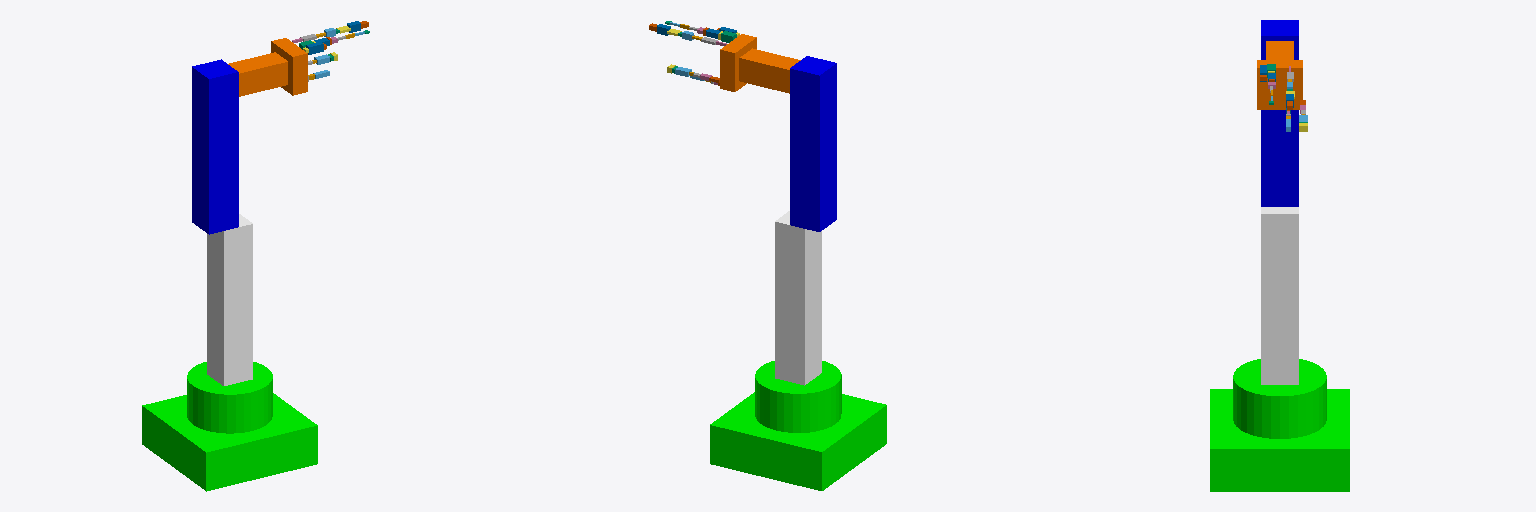
--- Facts derived from the render (not from the file) ---
3 views of the same robot in one strip: view 1: azimuth 30°, elevation 25°; view 2: azimuth 150°, elevation 25°; view 3: azimuth 270°, elevation 25° (orthographic).
Robot: robot — 38 links, 37 joints (34 revolute, 1 continuous, 2 fixed); root link base_link; default pose: every joint at zero.
Visible links, largest first — view 1: base_link, arm_link, support_link, wrist_link, palm_link; view 2: base_link, arm_link, support_link, wrist_link, palm_link; view 3: base_link, support_link, arm_link, palm_link, wrist_link.
Boxes of the visible links, box(x1,y1,x2,y2) form: base_link: box(142, 362, 317, 491); arm_link: box(192, 59, 238, 234); support_link: box(207, 214, 252, 385); wrist_link: box(228, 52, 287, 96); palm_link: box(271, 38, 307, 95); base_link: box(710, 361, 886, 490); arm_link: box(790, 56, 836, 231); support_link: box(775, 211, 821, 385); wrist_link: box(739, 48, 800, 93); palm_link: box(720, 34, 756, 91); base_link: box(1210, 359, 1349, 491); support_link: box(1261, 207, 1298, 384); arm_link: box(1261, 20, 1298, 206); palm_link: box(1257, 60, 1302, 109); wrist_link: box(1266, 41, 1293, 59).
Bounding box of the posed robot: 1.33 × 0.75 × 2.55 m (x, y, z).
Geometry: primitives only (box / cylinder / sphere), no mesh files.

robot.urdf — robot:
<?xml version='1.0' encoding='utf-8'?>
<robot name="robot">
  <link name="base_link">
    <visual>
      <origin xyz="0 0 0.125" rpy="0 0 0" />
      <geometry>
        <box size="0.75 0.75 0.25" />
      </geometry>
      <material name="green" />
    </visual>
    <visual>
      <origin xyz="0 0 0.375" rpy="0 0 0" />
      <geometry>
        <cylinder length="0.25" radius="0.25" />
      </geometry>
      <material name="green">
        <color rgba="0 1 0 1" />
      </material>
    </visual>
    <collision>
      <geometry>
        <box size="0.75 0.75 0.5" />
      </geometry>
    </collision>
    <inertial>
      <mass value="0.5" />
      <inertia ixx="0.034" ixy="0.0" ixz="0.0" iyy="0.034" iyz="0.0" izz="0.034" />
    </inertial>
  </link>
  <link name="support_link">
    <visual>
      <origin xyz="0 0 0.5" rpy="0 0 0" />
      <geometry>
        <box size="0.2 0.2 1" />
      </geometry>
      <material name="white">
        <color rgba="1 1 1 1" />
      </material>
    </visual>
    <collision>
      <geometry>
        <box size="0.2 0.2 1" />
      </geometry>
    </collision>
    <inertial>
      <mass value="0.1" />
      <inertia ixx="0.01" ixy="0.0" ixz="0.0" iyy="0.01" iyz="0.0" izz="0.01" />
    </inertial>
  </link>
  <joint name="support_joint" type="continuous">
    <origin xyz="0 0 0.5" rpy="0 0 0" />
    <parent link="base_link" />
    <child link="support_link" />
    <axis xyz="0 0 1" />
  </joint>
  <link name="arm_link">
    <visual>
      <origin xyz="0 0 0.5" rpy="0 0 0" />
      <geometry>
        <box size="0.2 0.2 1" />
      </geometry>
      <material name="blue">
        <color rgba="0 0 1 1" />
      </material>
    </visual>
    <collision>
      <geometry>
        <box size="0.2 0.2 1" />
      </geometry>
    </collision>
    <inertial>
      <mass value="0.1" />
      <inertia ixx="0.01" ixy="0.0" ixz="0.0" iyy="0.01" iyz="0.0" izz="0.01" />
    </inertial>
  </link>
  <joint name="arm_joint" type="revolute">
    <origin xyz="-0.1 0 1" rpy="0 0 0" />
    <parent link="support_link" />
    <child link="arm_link" />
    <axis xyz="0 1 0" />
    <limit lower="-3.14" upper="3.14" effort="1.0" velocity="1.0" />
  </joint>
  <link name="wrist_link">
    <visual>
      <origin xyz="0 0 0.25" rpy="0 0 0" />
      <geometry>
        <box size="0.15 0.15 0.5" />
      </geometry>
      <material name="orange">
        <color rgba="1 0.5 0 1" />
      </material>
    </visual>
    <collision>
      <geometry>
        <box size="0.15 0.15 0.5" />
      </geometry>
    </collision>
    <inertial>
      <mass value="0.1" />
      <inertia ixx="0.01" ixy="0.0" ixz="0.0" iyy="0.01" iyz="0.0" izz="0.01" />
    </inertial>
  </link>
  <joint name="wrist_joint" type="fixed">
    <origin xyz="0 0 0.9" rpy="0 1.571 0" />
    <parent link="arm_link" />
    <child link="wrist_link" />
  </joint>
  <link name="palm_link">
    <visual>
      <origin xyz="0 0 0.05" rpy="0 0 0" />
      <geometry>
        <box size="0.25 0.25 0.1" />
      </geometry>
      <material name="orange" />
    </visual>
    <collision>
      <geometry>
        <box size="0.25 0.25 0.1" />
      </geometry>
    </collision>
    <inertial>
      <mass value="0.1" />
      <inertia ixx="0.01" ixy="0.0" ixz="0.0" iyy="0.01" iyz="0.0" izz="0.01" />
    </inertial>
  </link>
  <joint name="palm_joint" type="fixed">
    <origin xyz="0 0 0.45" rpy="0 0 0" />
    <parent link="wrist_link" />
    <child link="palm_link" />
  </joint>
  <link name="finger_link_0_0">
    <visual>
      <origin xyz="0 0 0.031" rpy="0 0 0" />
      <geometry>
        <box size="0.017 0.032 0.062" />
      </geometry>
    </visual>
    <collision>
      <geometry>
        <box size="0.017 0.032 0.062" />
      </geometry>
    </collision>
    <inertial>
      <mass value="0.01" />
      <inertia ixx="0.0" iyy="0.0" izz="0.0" ixy="0" ixz="0" iyz="0" />
    </inertial>
  </link>
  <joint name="finger_joint_palm_link_to_finger_link_0_0" type="revolute">
    <origin xyz="0.074 0.125 0.1" rpy="0 0 0" />
    <parent link="palm_link" />
    <child link="finger_link_0_0" />
    <axis xyz="0.0 1.0 0.0" />
    <limit lower="-3.142" upper="3.142" effort="10" velocity="10" />
  </joint>
  <link name="finger_link_0_1">
    <visual>
      <origin xyz="0 0 0.032" rpy="0 0 0" />
      <geometry>
        <box size="0.024 0.032 0.064" />
      </geometry>
    </visual>
    <collision>
      <geometry>
        <box size="0.024 0.032 0.064" />
      </geometry>
    </collision>
    <inertial>
      <mass value="0.015" />
      <inertia ixx="0.0" iyy="0.0" izz="0.0" ixy="0" ixz="0" iyz="0" />
    </inertial>
  </link>
  <joint name="finger_joint_finger_link_0_0_to_finger_link_0_1" type="revolute">
    <origin xyz="0.0 0.0 0.062" rpy="0 0 0" />
    <parent link="finger_link_0_0" />
    <child link="finger_link_0_1" />
    <axis xyz="1.0 1.0 0.0" />
    <limit lower="-3.142" upper="3.142" effort="10" velocity="10" />
  </joint>
  <link name="finger_link_0_2">
    <visual>
      <origin xyz="0 0 0.025" rpy="0 0 0" />
      <geometry>
        <box size="0.014 0.026 0.05" />
      </geometry>
    </visual>
    <collision>
      <geometry>
        <box size="0.014 0.026 0.05" />
      </geometry>
    </collision>
    <inertial>
      <mass value="0.005" />
      <inertia ixx="0.0" iyy="0.0" izz="0.0" ixy="0" ixz="0" iyz="0" />
    </inertial>
  </link>
  <joint name="finger_joint_finger_link_0_1_to_finger_link_0_2" type="revolute">
    <origin xyz="0.0 0.0 0.064" rpy="0 0 0" />
    <parent link="finger_link_0_1" />
    <child link="finger_link_0_2" />
    <axis xyz="0.0 1.0 0.0" />
    <limit lower="-3.142" upper="3.142" effort="10" velocity="10" />
  </joint>
  <link name="finger_link_0_3">
    <visual>
      <origin xyz="0 0 0.0135" rpy="0 0 0" />
      <geometry>
        <box size="0.018 0.012 0.027" />
      </geometry>
    </visual>
    <collision>
      <geometry>
        <box size="0.018 0.012 0.027" />
      </geometry>
    </collision>
    <inertial>
      <mass value="0.002" />
      <inertia ixx="0.0" iyy="0.0" izz="0.0" ixy="0" ixz="0" iyz="0" />
    </inertial>
  </link>
  <joint name="finger_joint_finger_link_0_2_to_finger_link_0_3" type="revolute">
    <origin xyz="0.0 0.0 0.05" rpy="0 0 0" />
    <parent link="finger_link_0_2" />
    <child link="finger_link_0_3" />
    <axis xyz="1.0 1.0 0.0" />
    <limit lower="-3.142" upper="3.142" effort="10" velocity="10" />
  </joint>
  <link name="finger_link_0_4">
    <visual>
      <origin xyz="0 0 0.0415" rpy="0 0 0" />
      <geometry>
        <box size="0.032 0.044 0.083" />
      </geometry>
    </visual>
    <collision>
      <geometry>
        <box size="0.032 0.044 0.083" />
      </geometry>
    </collision>
    <inertial>
      <mass value="0.035" />
      <inertia ixx="0.0" iyy="0.0" izz="0.0" ixy="0" ixz="0" iyz="0" />
    </inertial>
  </link>
  <joint name="finger_joint_finger_link_0_3_to_finger_link_0_4" type="revolute">
    <origin xyz="0.0 0.0 0.027" rpy="0 0 0" />
    <parent link="finger_link_0_3" />
    <child link="finger_link_0_4" />
    <axis xyz="1.0 0.0 0.0" />
    <limit lower="-3.142" upper="3.142" effort="10" velocity="10" />
  </joint>
  <link name="finger_link_0_5">
    <visual>
      <origin xyz="0 0 0.012" rpy="0 0 0" />
      <geometry>
        <box size="0.025 0.047 0.024" />
      </geometry>
    </visual>
    <collision>
      <geometry>
        <box size="0.025 0.047 0.024" />
      </geometry>
    </collision>
    <inertial>
      <mass value="0.008" />
      <inertia ixx="0.0" iyy="0.0" izz="0.0" ixy="0" ixz="0" iyz="0" />
    </inertial>
  </link>
  <joint name="finger_joint_finger_link_0_4_to_finger_link_0_5" type="revolute">
    <origin xyz="0.0 0.0 0.083" rpy="0 0 0" />
    <parent link="finger_link_0_4" />
    <child link="finger_link_0_5" />
    <axis xyz="1.0 0.0 0.0" />
    <limit lower="-3.142" upper="3.142" effort="10" velocity="10" />
  </joint>
  <link name="finger_link_0_6">
    <visual>
      <origin xyz="0 0 0.0145" rpy="0 0 0" />
      <geometry>
        <box size="0.035 0.044 0.029" />
      </geometry>
    </visual>
    <collision>
      <geometry>
        <box size="0.035 0.044 0.029" />
      </geometry>
    </collision>
    <inertial>
      <mass value="0.013" />
      <inertia ixx="0.0" iyy="0.0" izz="0.0" ixy="0" ixz="0" iyz="0" />
    </inertial>
  </link>
  <joint name="finger_joint_finger_link_0_5_to_finger_link_0_6" type="revolute">
    <origin xyz="0.0 0.0 0.024" rpy="0 0 0" />
    <parent link="finger_link_0_5" />
    <child link="finger_link_0_6" />
    <axis xyz="1.0 1.0 0.0" />
    <limit lower="-3.142" upper="3.142" effort="10" velocity="10" />
  </joint>
  <link name="finger_link_1_0">
    <visual>
      <origin xyz="0 0 0.0205" rpy="0 0 0" />
      <geometry>
        <box size="0.037 0.025 0.041" />
      </geometry>
    </visual>
    <collision>
      <geometry>
        <box size="0.037 0.025 0.041" />
      </geometry>
    </collision>
    <inertial>
      <mass value="0.011" />
      <inertia ixx="0.0" iyy="0.0" izz="0.0" ixy="0" ixz="0" iyz="0" />
    </inertial>
  </link>
  <joint name="finger_joint_palm_link_to_finger_link_1_0" type="revolute">
    <origin xyz="0.125 0.045 0.1" rpy="0 0 0" />
    <parent link="palm_link" />
    <child link="finger_link_1_0" />
    <axis xyz="0.0 1.0 0.0" />
    <limit lower="-3.142" upper="3.142" effort="10" velocity="10" />
  </joint>
  <link name="finger_link_1_1">
    <visual>
      <origin xyz="0 0 0.0065" rpy="0 0 0" />
      <geometry>
        <box size="0.04 0.019 0.013" />
      </geometry>
    </visual>
    <collision>
      <geometry>
        <box size="0.04 0.019 0.013" />
      </geometry>
    </collision>
    <inertial>
      <mass value="0.003" />
      <inertia ixx="0.0" iyy="0.0" izz="0.0" ixy="0" ixz="0" iyz="0" />
    </inertial>
  </link>
  <joint name="finger_joint_finger_link_1_0_to_finger_link_1_1" type="revolute">
    <origin xyz="0.0 0.0 0.041" rpy="0 0 0" />
    <parent link="finger_link_1_0" />
    <child link="finger_link_1_1" />
    <axis xyz="0.0 1.0 0.0" />
    <limit lower="-3.142" upper="3.142" effort="10" velocity="10" />
  </joint>
  <link name="finger_link_1_2">
    <visual>
      <origin xyz="0 0 0.015" rpy="0 0 0" />
      <geometry>
        <box size="0.04 0.019 0.03" />
      </geometry>
    </visual>
    <collision>
      <geometry>
        <box size="0.04 0.019 0.03" />
      </geometry>
    </collision>
    <inertial>
      <mass value="0.007" />
      <inertia ixx="0.0" iyy="0.0" izz="0.0" ixy="0" ixz="0" iyz="0" />
    </inertial>
  </link>
  <joint name="finger_joint_finger_link_1_1_to_finger_link_1_2" type="revolute">
    <origin xyz="0.0 0.0 0.013" rpy="0 0 0" />
    <parent link="finger_link_1_1" />
    <child link="finger_link_1_2" />
    <axis xyz="1.0 1.0 0.0" />
    <limit lower="-3.142" upper="3.142" effort="10" velocity="10" />
  </joint>
  <link name="finger_link_1_3">
    <visual>
      <origin xyz="0 0 0.007" rpy="0 0 0" />
      <geometry>
        <box size="0.034 0.03 0.014" />
      </geometry>
    </visual>
    <collision>
      <geometry>
        <box size="0.034 0.03 0.014" />
      </geometry>
    </collision>
    <inertial>
      <mass value="0.004" />
      <inertia ixx="0.0" iyy="0.0" izz="0.0" ixy="0" ixz="0" iyz="0" />
    </inertial>
  </link>
  <joint name="finger_joint_finger_link_1_2_to_finger_link_1_3" type="revolute">
    <origin xyz="0.0 0.0 0.03" rpy="0 0 0" />
    <parent link="finger_link_1_2" />
    <child link="finger_link_1_3" />
    <axis xyz="1.0 0.0 0.0" />
    <limit lower="-3.142" upper="3.142" effort="10" velocity="10" />
  </joint>
  <link name="finger_link_1_4">
    <visual>
      <origin xyz="0 0 0.023" rpy="0 0 0" />
      <geometry>
        <box size="0.026 0.023 0.046" />
      </geometry>
    </visual>
    <collision>
      <geometry>
        <box size="0.026 0.023 0.046" />
      </geometry>
    </collision>
    <inertial>
      <mass value="0.008" />
      <inertia ixx="0.0" iyy="0.0" izz="0.0" ixy="0" ixz="0" iyz="0" />
    </inertial>
  </link>
  <joint name="finger_joint_finger_link_1_3_to_finger_link_1_4" type="revolute">
    <origin xyz="0.0 0.0 0.014" rpy="0 0 0" />
    <parent link="finger_link_1_3" />
    <child link="finger_link_1_4" />
    <axis xyz="1.0 1.0 0.0" />
    <limit lower="-3.142" upper="3.142" effort="10" velocity="10" />
  </joint>
  <link name="finger_link_1_5">
    <visual>
      <origin xyz="0 0 0.0475" rpy="0 0 0" />
      <geometry>
        <box size="0.028 0.029 0.095" />
      </geometry>
    </visual>
    <collision>
      <geometry>
        <box size="0.028 0.029 0.095" />
      </geometry>
    </collision>
    <inertial>
      <mass value="0.023" />
      <inertia ixx="0.0" iyy="0.0" izz="0.0" ixy="0" ixz="0" iyz="0" />
    </inertial>
  </link>
  <joint name="finger_joint_finger_link_1_4_to_finger_link_1_5" type="revolute">
    <origin xyz="0.0 0.0 0.046" rpy="0 0 0" />
    <parent link="finger_link_1_4" />
    <child link="finger_link_1_5" />
    <axis xyz="1.0 1.0 0.0" />
    <limit lower="-3.142" upper="3.142" effort="10" velocity="10" />
  </joint>
  <link name="finger_link_2_0">
    <visual>
      <origin xyz="0 0 0.0395" rpy="0 0 0" />
      <geometry>
        <box size="0.048 0.046 0.079" />
      </geometry>
    </visual>
    <collision>
      <geometry>
        <box size="0.048 0.046 0.079" />
      </geometry>
    </collision>
    <inertial>
      <mass value="0.052" />
      <inertia ixx="0.0" iyy="0.0" izz="0.0" ixy="0" ixz="0" iyz="0" />
    </inertial>
  </link>
  <joint name="finger_joint_palm_link_to_finger_link_2_0" type="revolute">
    <origin xyz="-0.125 -0.044 0.1" rpy="0 0 0" />
    <parent link="palm_link" />
    <child link="finger_link_2_0" />
    <axis xyz="1.0 1.0 0.0" />
    <limit lower="-3.142" upper="3.142" effort="10" velocity="10" />
  </joint>
  <link name="finger_link_2_1">
    <visual>
      <origin xyz="0 0 0.0095" rpy="0 0 0" />
      <geometry>
        <box size="0.037 0.04 0.019" />
      </geometry>
    </visual>
    <collision>
      <geometry>
        <box size="0.037 0.04 0.019" />
      </geometry>
    </collision>
    <inertial>
      <mass value="0.008" />
      <inertia ixx="0.0" iyy="0.0" izz="0.0" ixy="0" ixz="0" iyz="0" />
    </inertial>
  </link>
  <joint name="finger_joint_finger_link_2_0_to_finger_link_2_1" type="revolute">
    <origin xyz="0.0 0.0 0.079" rpy="0 0 0" />
    <parent link="finger_link_2_0" />
    <child link="finger_link_2_1" />
    <axis xyz="0.0 1.0 0.0" />
    <limit lower="-3.142" upper="3.142" effort="10" velocity="10" />
  </joint>
  <link name="finger_link_2_2">
    <visual>
      <origin xyz="0 0 0.042" rpy="0 0 0" />
      <geometry>
        <box size="0.033 0.044 0.084" />
      </geometry>
    </visual>
    <collision>
      <geometry>
        <box size="0.033 0.044 0.084" />
      </geometry>
    </collision>
    <inertial>
      <mass value="0.037" />
      <inertia ixx="0.0" iyy="0.0" izz="0.0" ixy="0" ixz="0" iyz="0" />
    </inertial>
  </link>
  <joint name="finger_joint_finger_link_2_1_to_finger_link_2_2" type="revolute">
    <origin xyz="0.0 0.0 0.019" rpy="0 0 0" />
    <parent link="finger_link_2_1" />
    <child link="finger_link_2_2" />
    <axis xyz="1.0 0.0 0.0" />
    <limit lower="-3.142" upper="3.142" effort="10" velocity="10" />
  </joint>
  <link name="finger_link_2_3">
    <visual>
      <origin xyz="0 0 0.0095" rpy="0 0 0" />
      <geometry>
        <box size="0.04 0.034 0.019" />
      </geometry>
    </visual>
    <collision>
      <geometry>
        <box size="0.04 0.034 0.019" />
      </geometry>
    </collision>
    <inertial>
      <mass value="0.008" />
      <inertia ixx="0.0" iyy="0.0" izz="0.0" ixy="0" ixz="0" iyz="0" />
    </inertial>
  </link>
  <joint name="finger_joint_finger_link_2_2_to_finger_link_2_3" type="revolute">
    <origin xyz="0.0 0.0 0.084" rpy="0 0 0" />
    <parent link="finger_link_2_2" />
    <child link="finger_link_2_3" />
    <axis xyz="0.0 1.0 0.0" />
    <limit lower="-3.142" upper="3.142" effort="10" velocity="10" />
  </joint>
  <link name="finger_link_2_4">
    <visual>
      <origin xyz="0 0 0.02" rpy="0 0 0" />
      <geometry>
        <box size="0.022 0.041 0.04" />
      </geometry>
    </visual>
    <collision>
      <geometry>
        <box size="0.022 0.041 0.04" />
      </geometry>
    </collision>
    <inertial>
      <mass value="0.011" />
      <inertia ixx="0.0" iyy="0.0" izz="0.0" ixy="0" ixz="0" iyz="0" />
    </inertial>
  </link>
  <joint name="finger_joint_finger_link_2_3_to_finger_link_2_4" type="revolute">
    <origin xyz="0.0 0.0 0.019" rpy="0 0 0" />
    <parent link="finger_link_2_3" />
    <child link="finger_link_2_4" />
    <axis xyz="1.0 0.0 0.0" />
    <limit lower="-3.142" upper="3.142" effort="10" velocity="10" />
  </joint>
  <link name="finger_link_2_5">
    <visual>
      <origin xyz="0 0 0.0305" rpy="0 0 0" />
      <geometry>
        <box size="0.012 0.016 0.061" />
      </geometry>
    </visual>
    <collision>
      <geometry>
        <box size="0.012 0.016 0.061" />
      </geometry>
    </collision>
    <inertial>
      <mass value="0.004" />
      <inertia ixx="0.0" iyy="0.0" izz="0.0" ixy="0" ixz="0" iyz="0" />
    </inertial>
  </link>
  <joint name="finger_joint_finger_link_2_4_to_finger_link_2_5" type="revolute">
    <origin xyz="0.0 0.0 0.04" rpy="0 0 0" />
    <parent link="finger_link_2_4" />
    <child link="finger_link_2_5" />
    <axis xyz="0.0 1.0 0.0" />
    <limit lower="-3.142" upper="3.142" effort="10" velocity="10" />
  </joint>
  <link name="finger_link_2_6">
    <visual>
      <origin xyz="0 0 0.031" rpy="0 0 0" />
      <geometry>
        <box size="0.023 0.012 0.062" />
      </geometry>
    </visual>
    <collision>
      <geometry>
        <box size="0.023 0.012 0.062" />
      </geometry>
    </collision>
    <inertial>
      <mass value="0.005" />
      <inertia ixx="0.0" iyy="0.0" izz="0.0" ixy="0" ixz="0" iyz="0" />
    </inertial>
  </link>
  <joint name="finger_joint_finger_link_2_5_to_finger_link_2_6" type="revolute">
    <origin xyz="0.0 0.0 0.061" rpy="0 0 0" />
    <parent link="finger_link_2_5" />
    <child link="finger_link_2_6" />
    <axis xyz="1.0 1.0 0.0" />
    <limit lower="-3.142" upper="3.142" effort="10" velocity="10" />
  </joint>
  <link name="finger_link_2_7">
    <visual>
      <origin xyz="0 0 0.0325" rpy="0 0 0" />
      <geometry>
        <box size="0.012 0.012 0.065" />
      </geometry>
    </visual>
    <collision>
      <geometry>
        <box size="0.012 0.012 0.065" />
      </geometry>
    </collision>
    <inertial>
      <mass value="0.003" />
      <inertia ixx="0.0" iyy="0.0" izz="0.0" ixy="0" ixz="0" iyz="0" />
    </inertial>
  </link>
  <joint name="finger_joint_finger_link_2_6_to_finger_link_2_7" type="revolute">
    <origin xyz="0.0 0.0 0.062" rpy="0 0 0" />
    <parent link="finger_link_2_6" />
    <child link="finger_link_2_7" />
    <axis xyz="0.0 1.0 0.0" />
    <limit lower="-3.142" upper="3.142" effort="10" velocity="10" />
  </joint>
  <link name="finger_link_2_8">
    <visual>
      <origin xyz="0 0 0.0145" rpy="0 0 0" />
      <geometry>
        <box size="0.01 0.029 0.029" />
      </geometry>
    </visual>
    <collision>
      <geometry>
        <box size="0.01 0.029 0.029" />
      </geometry>
    </collision>
    <inertial>
      <mass value="0.003" />
      <inertia ixx="0.0" iyy="0.0" izz="0.0" ixy="0" ixz="0" iyz="0" />
    </inertial>
  </link>
  <joint name="finger_joint_finger_link_2_7_to_finger_link_2_8" type="revolute">
    <origin xyz="0.0 0.0 0.065" rpy="0 0 0" />
    <parent link="finger_link_2_7" />
    <child link="finger_link_2_8" />
    <axis xyz="1.0 1.0 0.0" />
    <limit lower="-3.142" upper="3.142" effort="10" velocity="10" />
  </joint>
  <link name="finger_link_3_0">
    <visual>
      <origin xyz="0 0 0.011" rpy="0 0 0" />
      <geometry>
        <box size="0.023 0.04 0.022" />
      </geometry>
    </visual>
    <collision>
      <geometry>
        <box size="0.023 0.04 0.022" />
      </geometry>
    </collision>
    <inertial>
      <mass value="0.006" />
      <inertia ixx="0.0" iyy="0.0" izz="0.0" ixy="0" ixz="0" iyz="0" />
    </inertial>
  </link>
  <joint name="finger_joint_palm_link_to_finger_link_3_0" type="revolute">
    <origin xyz="-0.125 -0.088 0.1" rpy="0 0 0" />
    <parent link="palm_link" />
    <child link="finger_link_3_0" />
    <axis xyz="1.0 1.0 0.0" />
    <limit lower="-3.142" upper="3.142" effort="10" velocity="10" />
  </joint>
  <link name="finger_link_3_1">
    <visual>
      <origin xyz="0 0 0.049" rpy="0 0 0" />
      <geometry>
        <box size="0.05 0.036 0.098" />
      </geometry>
    </visual>
    <collision>
      <geometry>
        <box size="0.05 0.036 0.098" />
      </geometry>
    </collision>
    <inertial>
      <mass value="0.053" />
      <inertia ixx="0.0" iyy="0.0" izz="0.0" ixy="0" ixz="0" iyz="0" />
    </inertial>
  </link>
  <joint name="finger_joint_finger_link_3_0_to_finger_link_3_1" type="revolute">
    <origin xyz="0.0 0.0 0.022" rpy="0 0 0" />
    <parent link="finger_link_3_0" />
    <child link="finger_link_3_1" />
    <axis xyz="0.0 1.0 0.0" />
    <limit lower="-3.142" upper="3.142" effort="10" velocity="10" />
  </joint>
  <link name="finger_link_3_2">
    <visual>
      <origin xyz="0 0 0.0095" rpy="0 0 0" />
      <geometry>
        <box size="0.026 0.04 0.019" />
      </geometry>
    </visual>
    <collision>
      <geometry>
        <box size="0.026 0.04 0.019" />
      </geometry>
    </collision>
    <inertial>
      <mass value="0.006" />
      <inertia ixx="0.0" iyy="0.0" izz="0.0" ixy="0" ixz="0" iyz="0" />
    </inertial>
  </link>
  <joint name="finger_joint_finger_link_3_1_to_finger_link_3_2" type="revolute">
    <origin xyz="0.0 0.0 0.098" rpy="0 0 0" />
    <parent link="finger_link_3_1" />
    <child link="finger_link_3_2" />
    <axis xyz="0.0 1.0 0.0" />
    <limit lower="-3.142" upper="3.142" effort="10" velocity="10" />
  </joint>
  <link name="finger_link_4_0">
    <visual>
      <origin xyz="0 0 0.033" rpy="0 0 0" />
      <geometry>
        <box size="0.017 0.014 0.066" />
      </geometry>
    </visual>
    <collision>
      <geometry>
        <box size="0.017 0.014 0.066" />
      </geometry>
    </collision>
    <inertial>
      <mass value="0.005" />
      <inertia ixx="0.0" iyy="0.0" izz="0.0" ixy="0" ixz="0" iyz="0" />
    </inertial>
  </link>
  <joint name="finger_joint_palm_link_to_finger_link_4_0" type="revolute">
    <origin xyz="-0.125 0.054 0.1" rpy="0 0 0" />
    <parent link="palm_link" />
    <child link="finger_link_4_0" />
    <axis xyz="0.0 1.0 0.0" />
    <limit lower="-3.142" upper="3.142" effort="10" velocity="10" />
  </joint>
  <link name="finger_link_4_1">
    <visual>
      <origin xyz="0 0 0.0455" rpy="0 0 0" />
      <geometry>
        <box size="0.017 0.038 0.091" />
      </geometry>
    </visual>
    <collision>
      <geometry>
        <box size="0.017 0.038 0.091" />
      </geometry>
    </collision>
    <inertial>
      <mass value="0.018" />
      <inertia ixx="0.0" iyy="0.0" izz="0.0" ixy="0" ixz="0" iyz="0" />
    </inertial>
  </link>
  <joint name="finger_joint_finger_link_4_0_to_finger_link_4_1" type="revolute">
    <origin xyz="0.0 0.0 0.066" rpy="0 0 0" />
    <parent link="finger_link_4_0" />
    <child link="finger_link_4_1" />
    <axis xyz="0.0 1.0 0.0" />
    <limit lower="-3.142" upper="3.142" effort="10" velocity="10" />
  </joint>
  <link name="finger_link_4_2">
    <visual>
      <origin xyz="0 0 0.033" rpy="0 0 0" />
      <geometry>
        <box size="0.012 0.022 0.066" />
      </geometry>
    </visual>
    <collision>
      <geometry>
        <box size="0.012 0.022 0.066" />
      </geometry>
    </collision>
    <inertial>
      <mass value="0.005" />
      <inertia ixx="0.0" iyy="0.0" izz="0.0" ixy="0" ixz="0" iyz="0" />
    </inertial>
  </link>
  <joint name="finger_joint_finger_link_4_1_to_finger_link_4_2" type="revolute">
    <origin xyz="0.0 0.0 0.091" rpy="0 0 0" />
    <parent link="finger_link_4_1" />
    <child link="finger_link_4_2" />
    <axis xyz="1.0 0.0 0.0" />
    <limit lower="-3.142" upper="3.142" effort="10" velocity="10" />
  </joint>
  <link name="finger_link_4_3">
    <visual>
      <origin xyz="0 0 0.0305" rpy="0 0 0" />
      <geometry>
        <box size="0.041 0.032 0.061" />
      </geometry>
    </visual>
    <collision>
      <geometry>
        <box size="0.041 0.032 0.061" />
      </geometry>
    </collision>
    <inertial>
      <mass value="0.024" />
      <inertia ixx="0.0" iyy="0.0" izz="0.0" ixy="0" ixz="0" iyz="0" />
    </inertial>
  </link>
  <joint name="finger_joint_finger_link_4_2_to_finger_link_4_3" type="revolute">
    <origin xyz="0.0 0.0 0.066" rpy="0 0 0" />
    <parent link="finger_link_4_2" />
    <child link="finger_link_4_3" />
    <axis xyz="1.0 0.0 0.0" />
    <limit lower="-3.142" upper="3.142" effort="10" velocity="10" />
  </joint>
  <link name="finger_link_4_4">
    <visual>
      <origin xyz="0 0 0.013" rpy="0 0 0" />
      <geometry>
        <box size="0.017 0.032 0.026" />
      </geometry>
    </visual>
    <collision>
      <geometry>
        <box size="0.017 0.032 0.026" />
      </geometry>
    </collision>
    <inertial>
      <mass value="0.004" />
      <inertia ixx="0.0" iyy="0.0" izz="0.0" ixy="0" ixz="0" iyz="0" />
    </inertial>
  </link>
  <joint name="finger_joint_finger_link_4_3_to_finger_link_4_4" type="revolute">
    <origin xyz="0.0 0.0 0.061" rpy="0 0 0" />
    <parent link="finger_link_4_3" />
    <child link="finger_link_4_4" />
    <axis xyz="1.0 1.0 0.0" />
    <limit lower="-3.142" upper="3.142" effort="10" velocity="10" />
  </joint>
  <link name="finger_link_4_5">
    <visual>
      <origin xyz="0 0 0.035" rpy="0 0 0" />
      <geometry>
        <box size="0.015 0.049 0.07" />
      </geometry>
    </visual>
    <collision>
      <geometry>
        <box size="0.015 0.049 0.07" />
      </geometry>
    </collision>
    <inertial>
      <mass value="0.015" />
      <inertia ixx="0.0" iyy="0.0" izz="0.0" ixy="0" ixz="0" iyz="0" />
    </inertial>
  </link>
  <joint name="finger_joint_finger_link_4_4_to_finger_link_4_5" type="revolute">
    <origin xyz="0.0 0.0 0.026" rpy="0 0 0" />
    <parent link="finger_link_4_4" />
    <child link="finger_link_4_5" />
    <axis xyz="0.0 1.0 0.0" />
    <limit lower="-3.142" upper="3.142" effort="10" velocity="10" />
  </joint>
  <link name="finger_link_4_6">
    <visual>
      <origin xyz="0 0 0.037" rpy="0 0 0" />
      <geometry>
        <box size="0.046 0.039 0.074" />
      </geometry>
    </visual>
    <collision>
      <geometry>
        <box size="0.046 0.039 0.074" />
      </geometry>
    </collision>
    <inertial>
      <mass value="0.04" />
      <inertia ixx="0.0" iyy="0.0" izz="0.0" ixy="0" ixz="0" iyz="0" />
    </inertial>
  </link>
  <joint name="finger_joint_finger_link_4_5_to_finger_link_4_6" type="revolute">
    <origin xyz="0.0 0.0 0.07" rpy="0 0 0" />
    <parent link="finger_link_4_5" />
    <child link="finger_link_4_6" />
    <axis xyz="0.0 1.0 0.0" />
    <limit lower="-3.142" upper="3.142" effort="10" velocity="10" />
  </joint>
  <link name="finger_link_4_7">
    <visual>
      <origin xyz="0 0 0.026" rpy="0 0 0" />
      <geometry>
        <box size="0.028 0.035 0.052" />
      </geometry>
    </visual>
    <collision>
      <geometry>
        <box size="0.028 0.035 0.052" />
      </geometry>
    </collision>
    <inertial>
      <mass value="0.015" />
      <inertia ixx="0.0" iyy="0.0" izz="0.0" ixy="0" ixz="0" iyz="0" />
    </inertial>
  </link>
  <joint name="finger_joint_finger_link_4_6_to_finger_link_4_7" type="revolute">
    <origin xyz="0.0 0.0 0.074" rpy="0 0 0" />
    <parent link="finger_link_4_6" />
    <child link="finger_link_4_7" />
    <axis xyz="0.0 1.0 0.0" />
    <limit lower="-3.142" upper="3.142" effort="10" velocity="10" />
  </joint>
</robot>
